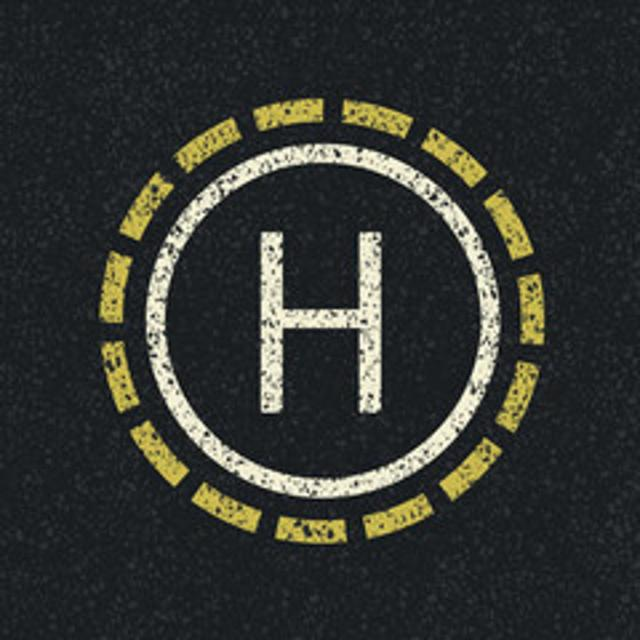helipad: (144, 139, 501, 499)
